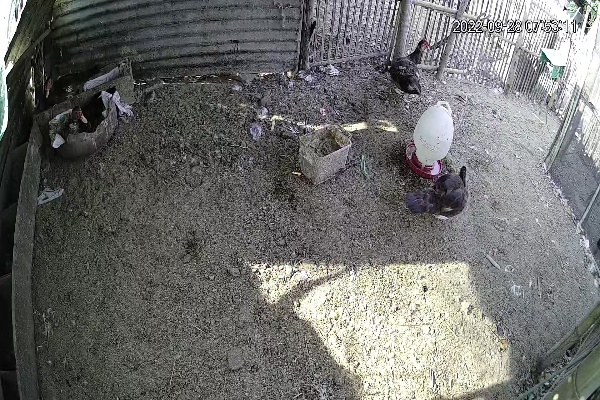Entog: (405, 162, 473, 231), (379, 35, 434, 100)
